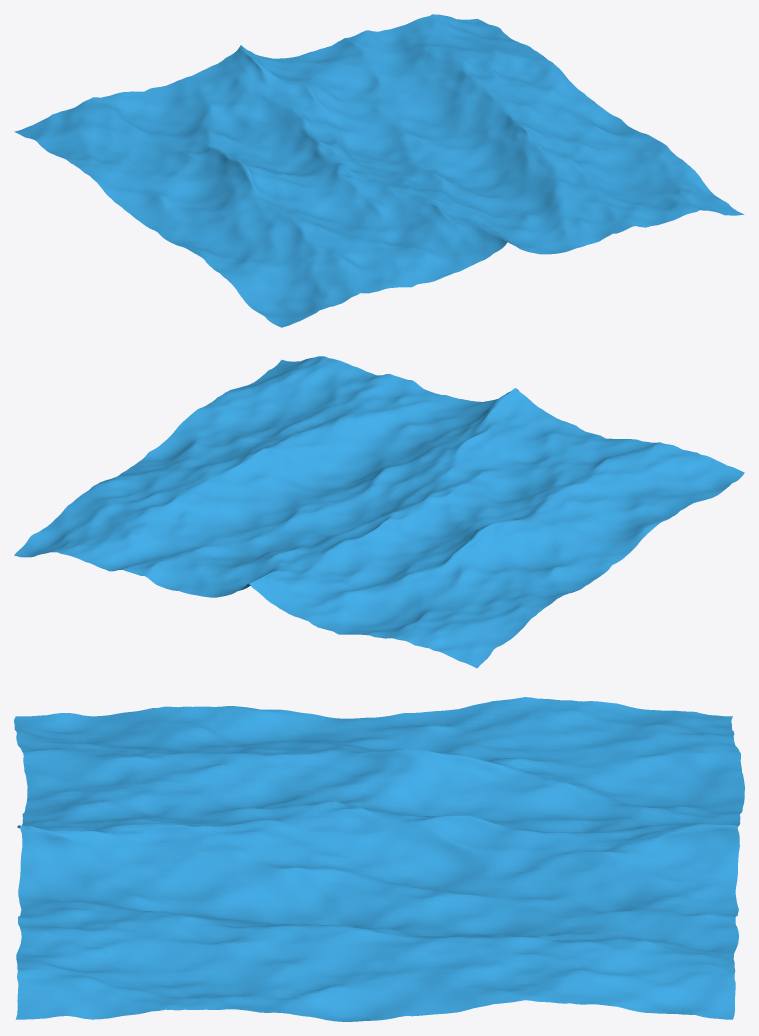
Rendered from ocean4.glb.
The picture shows the model from 3 angles, top to bottom: view 1: azimuth 30°, elevation 25°; view 2: azimuth 150°, elevation 25°; view 3: azimuth 270°, elevation 25°; orthographic projection. The views are drawn at different scales.
Visible parts, largest first — view 1: Plane; view 2: Plane; view 3: Plane.
Part boxes in pixels (x1,y1,x2,y2): Plane: (14, 14, 744, 327); Plane: (14, 356, 744, 668); Plane: (14, 697, 744, 1021).
Bounding box in the file's own units: 50.79 × 3.5 × 50.94.
